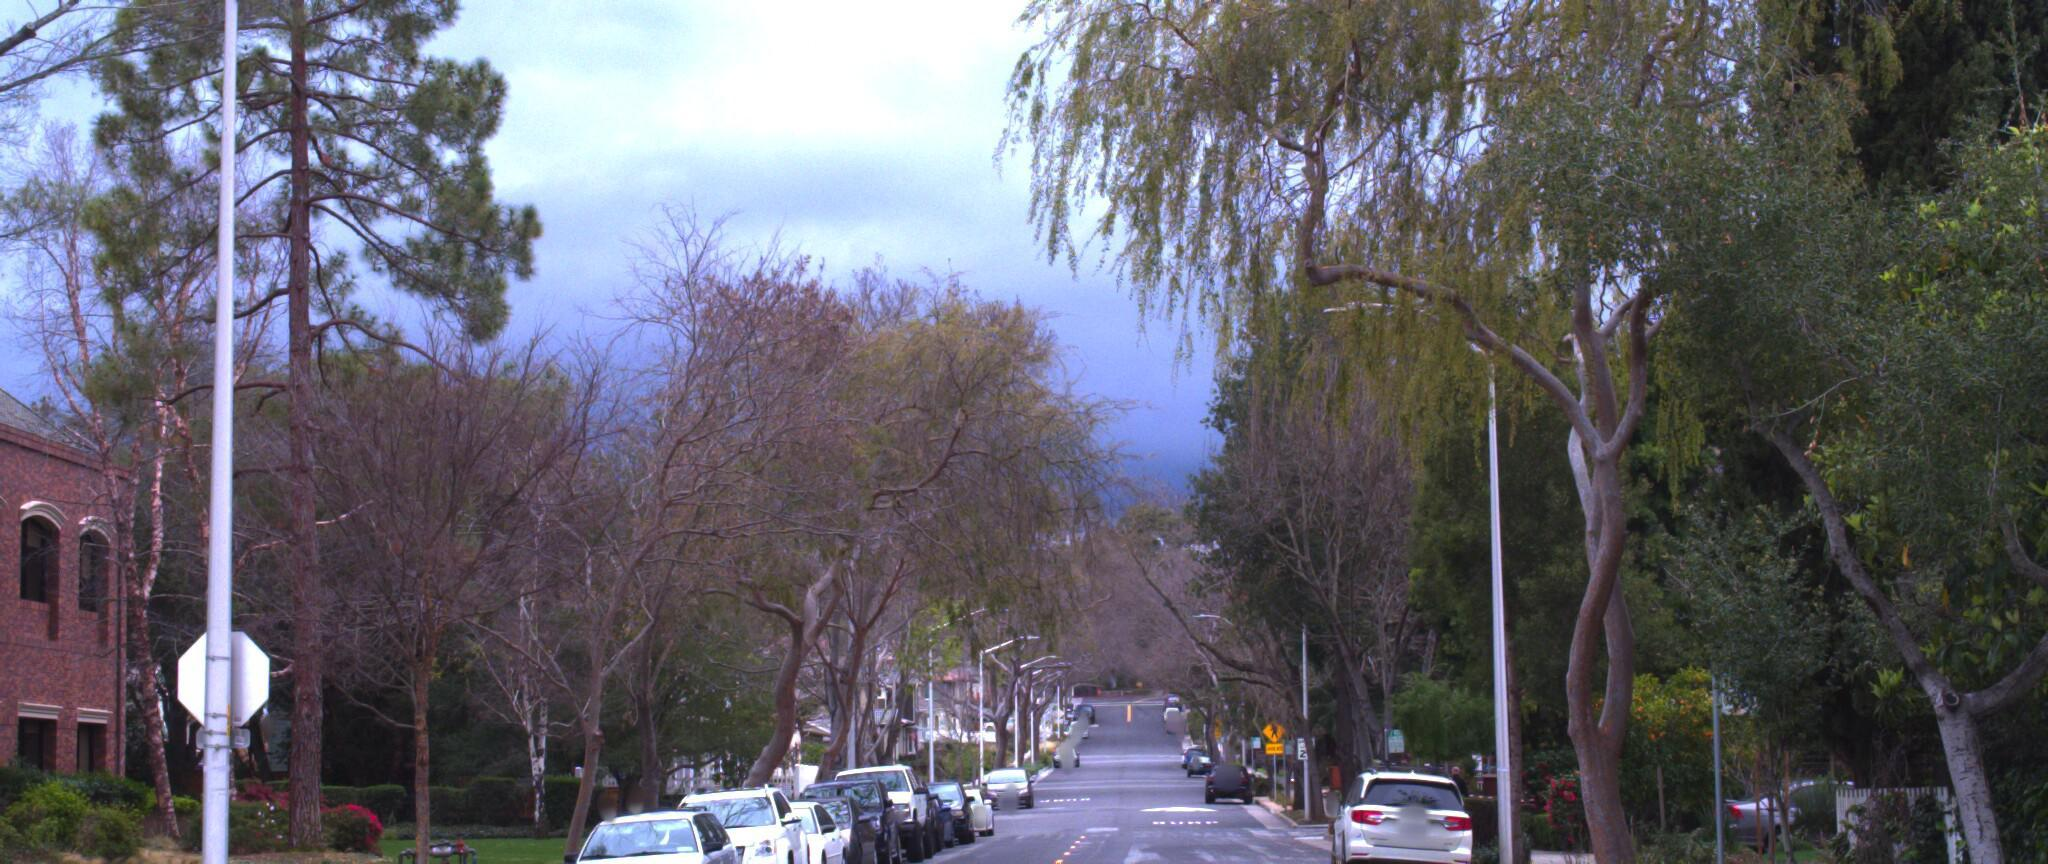car: (1326, 753, 1482, 864), (643, 777, 827, 864), (810, 760, 942, 864), (551, 803, 748, 864), (705, 795, 861, 864), (754, 795, 895, 864)
